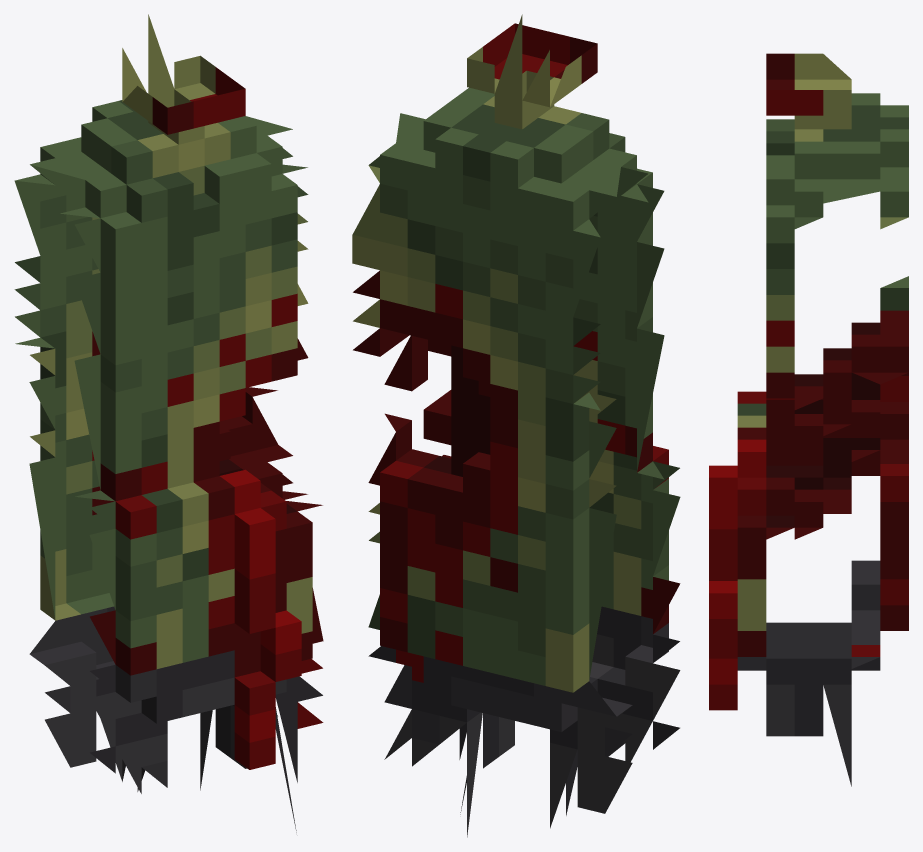
Rendered from zed4_torso.glb.
3 views of the same model, side by side, from view 1: azimuth 30°, elevation 25°; view 2: azimuth 150°, elevation 25°; view 3: azimuth 270°, elevation 25° (orthographic). The views are drawn at different scales.
Visible parts, largest first — view 1: zed4_torso; view 2: zed4_torso; view 3: zed4_torso.
Part boxes in pixels (bbox=[...]): zed4_torso: bbox=[14, 14, 323, 832]; zed4_torso: bbox=[352, 14, 680, 837]; zed4_torso: bbox=[709, 53, 908, 786].
Size of the model in its own units: 0.2812 by 0.9375 by 0.2188.
Materials: 1 (1 with a texture image).
